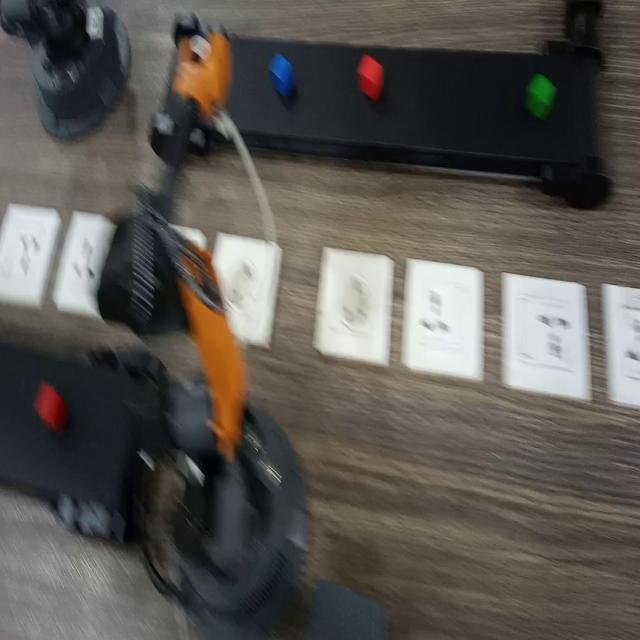cube: (521, 66, 561, 122), (33, 373, 66, 433), (267, 43, 298, 102), (353, 50, 385, 104)
